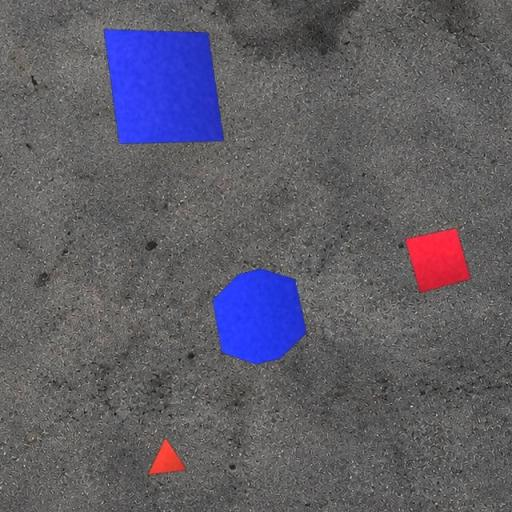BLUE_SQUARE: (103, 29, 225, 145)
RED_SQUARE: (405, 227, 472, 294)
